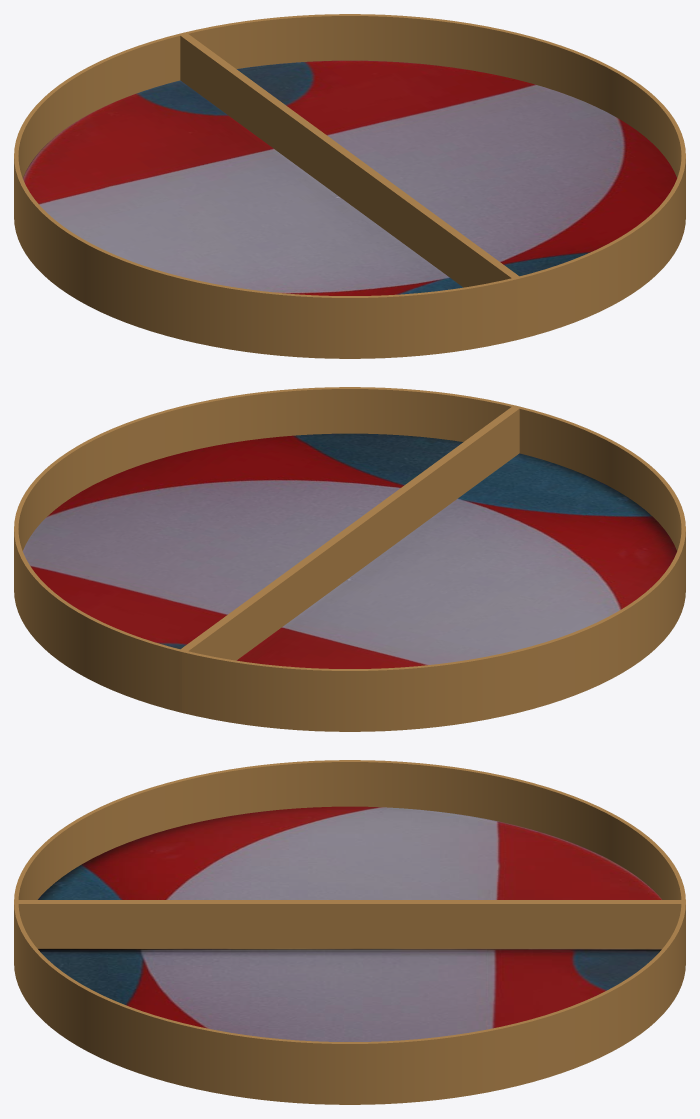
Rendered from Blush_Curve_GlassValetTray.glb.
The picture shows the model from 3 angles, top to bottom: view 1: azimuth 30°, elevation 25°; view 2: azimuth 150°, elevation 25°; view 3: azimuth 270°, elevation 25°; orthographic projection.
Visible parts, largest first — view 1: model 12, model 13; view 2: model 12, model 13; view 3: model 13, model 12.
Boxes of the visible parts, x1=… form: model 12: x1=14, y1=33, x2=517, y2=358; model 13: x1=182, y1=14, x2=685, y2=339; model 12: x1=182, y1=406, x2=685, y2=731; model 13: x1=14, y1=387, x2=517, y2=712; model 13: x1=14, y1=902, x2=685, y2=1104; model 12: x1=14, y1=760, x2=685, y2=901.
Size of the model in its own units: 0.3 by 0.03 by 0.3.
Materials: 2 (1 with a texture image).
